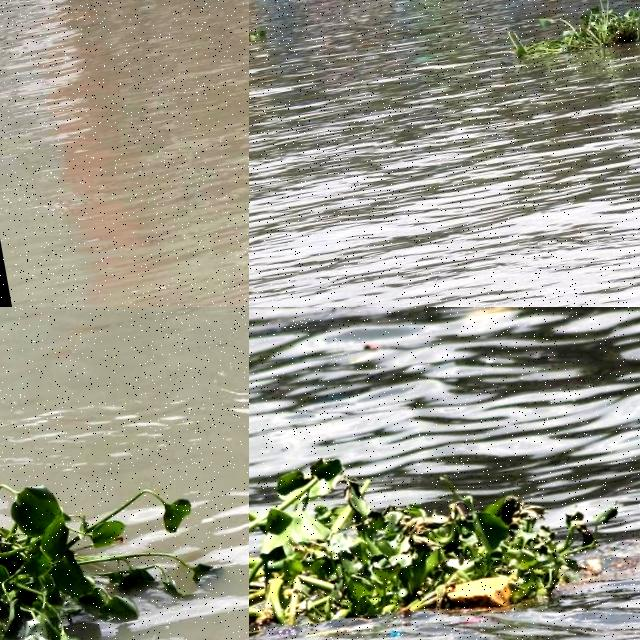water-hyacinth: (250, 420, 626, 640), (1, 430, 245, 640), (502, 1, 640, 71)
